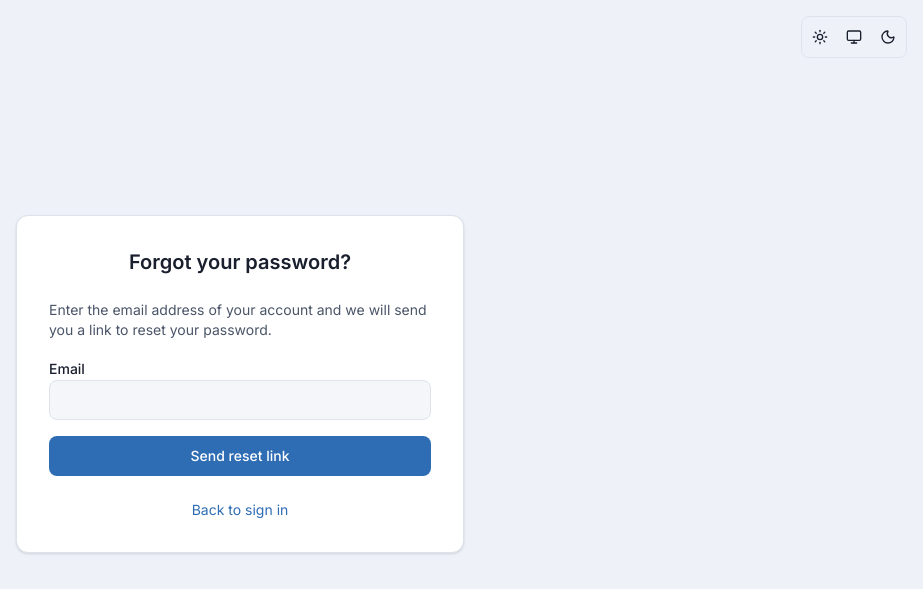
Test: ForgotPasswordPage (FR-BB115 AC-7) › shows a generic error when the service is unreachable
Type "alice@example.com" into the field labelled "Email" at [240, 400], box x1=49 y1=380 x2=431 y2=420
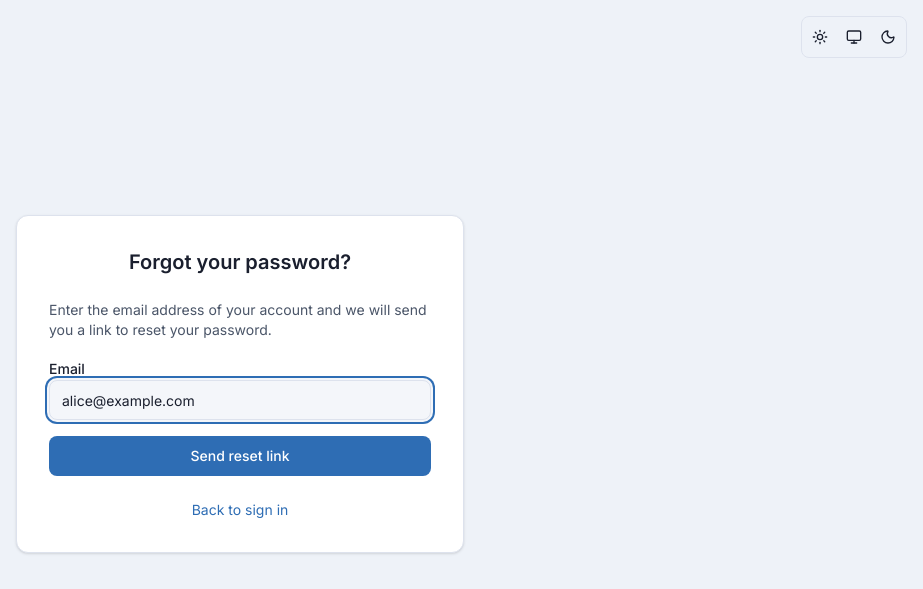
Click the button "Send reset link" at [240, 456], box x1=49 y1=436 x2=431 y2=476
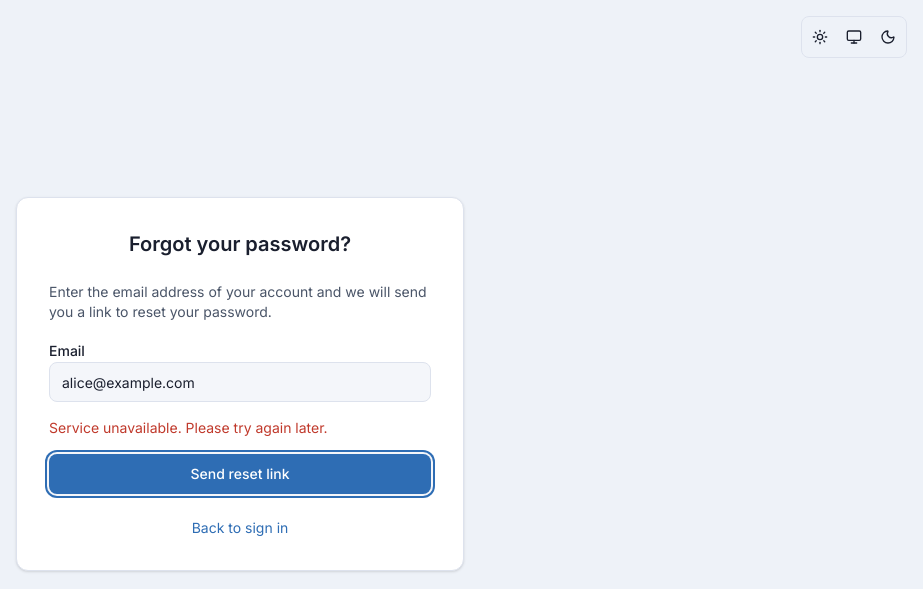
Check: the message shows "Service unavailable", box x1=49 y1=419 x2=328 y2=436
